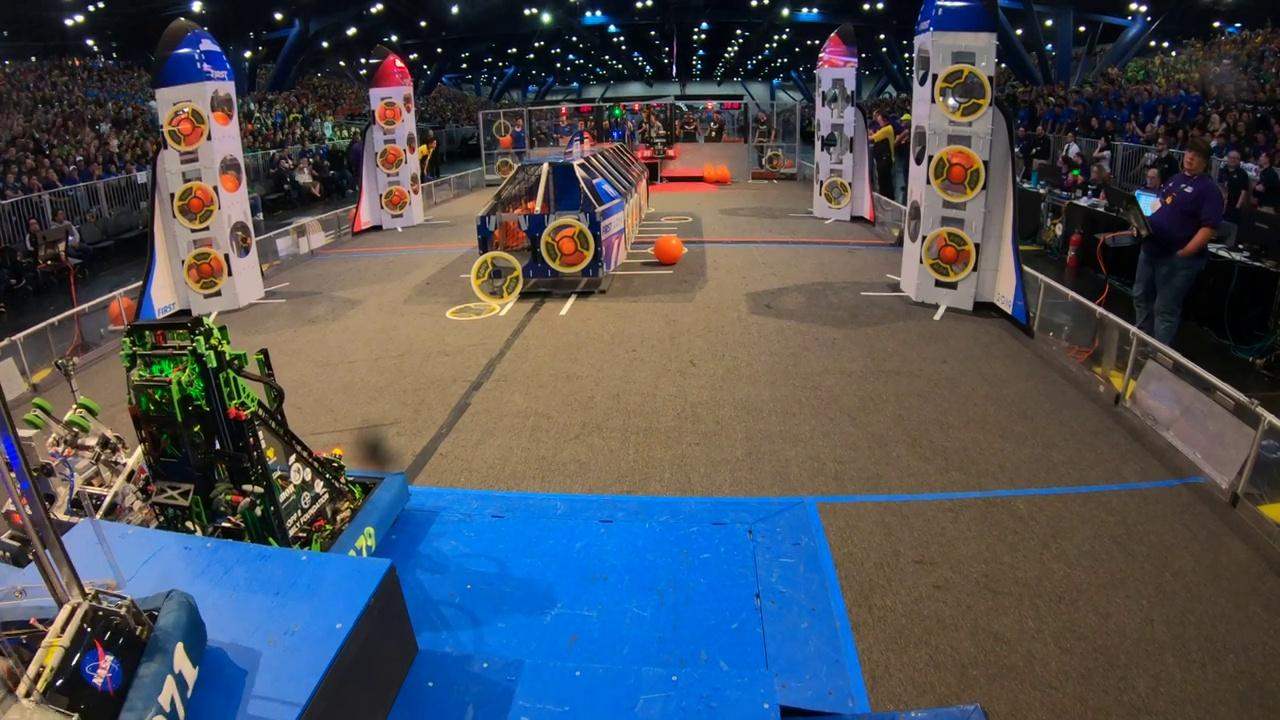robot: (78, 315, 408, 563)
